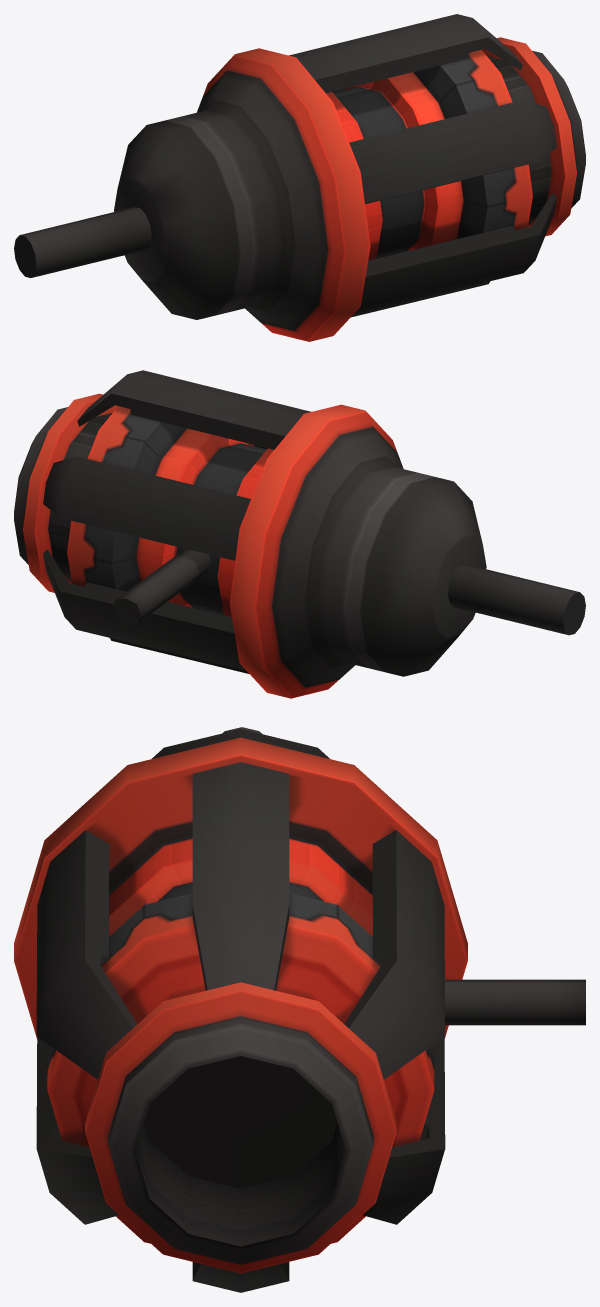
File: sn_shp011.fbx
3 renders of one model, top to bottom at view 1: azimuth 30°, elevation 25°; view 2: azimuth 150°, elevation 25°; view 3: azimuth 270°, elevation 25°, orthographic. The views are drawn at different scales.
Parts seen in each view (by area): view 1: sn_shp011; view 2: sn_shp011; view 3: sn_shp011.
Boxes of the visible parts, left/top/right/bottom form: sn_shp011: left=14, top=14, right=585, bottom=341; sn_shp011: left=14, top=370, right=585, bottom=698; sn_shp011: left=14, top=727, right=585, bottom=1292.
Size of the model in its own units: 1.02 by 0.4999 by 0.63.
1 material, 1 textured.
